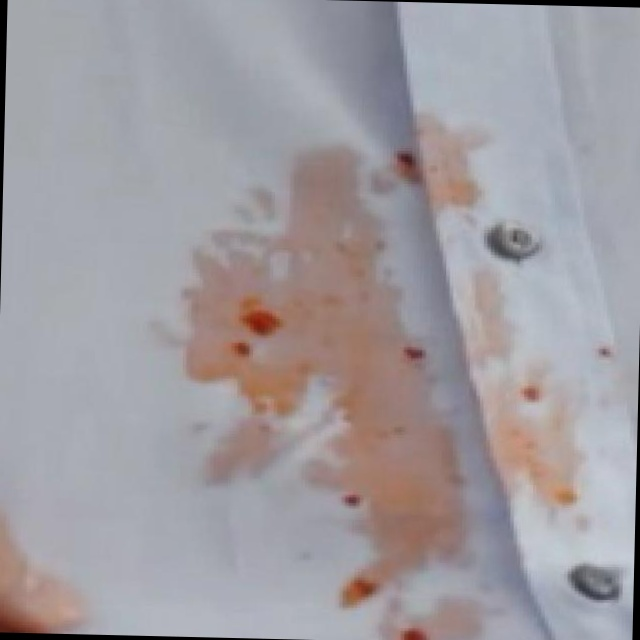kimchi: (135, 107, 640, 640), (0, 507, 102, 635), (216, 291, 295, 393), (367, 127, 461, 200), (379, 324, 449, 391), (326, 480, 399, 537), (513, 367, 558, 424), (544, 471, 588, 513), (385, 616, 454, 640), (345, 568, 384, 604), (593, 340, 628, 376)
